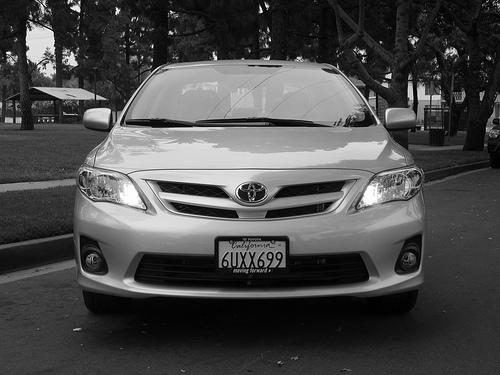car: (68, 52, 435, 331)
